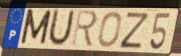5: (149, 12, 172, 51)
M: (19, 8, 53, 46)
O: (96, 11, 124, 49)
R: (70, 9, 99, 49)
U: (46, 7, 76, 48)
Z: (119, 10, 152, 50)
